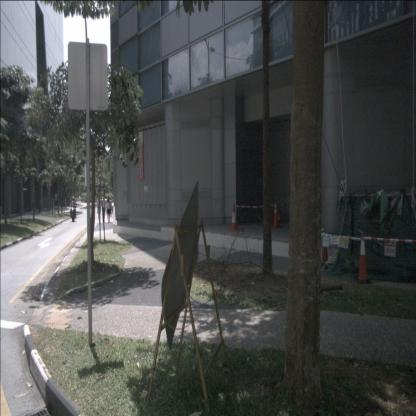human-pedestrian-adult: (96, 194, 102, 224), (106, 196, 112, 224), (102, 195, 106, 224), (108, 196, 112, 217), (38, 198, 42, 214)
movable_object-trafficcone: (355, 231, 371, 285), (320, 224, 330, 266), (271, 201, 281, 229), (230, 203, 238, 232)
vehicle-motorcycle: (70, 196, 77, 223)
